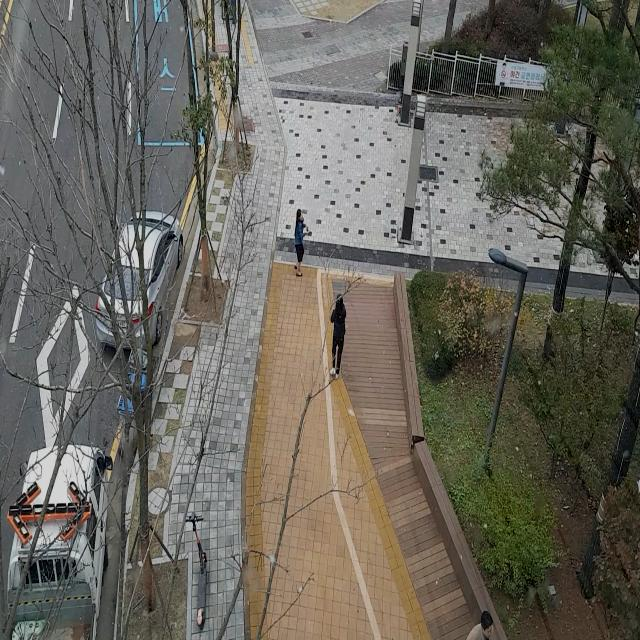Car: (88, 205, 195, 358)
Truck: (0, 426, 126, 640)
